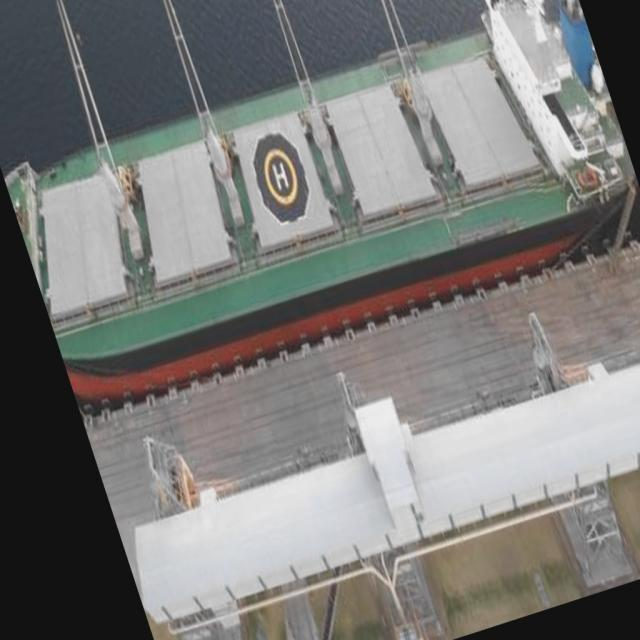helipad: (262, 147, 299, 206)
